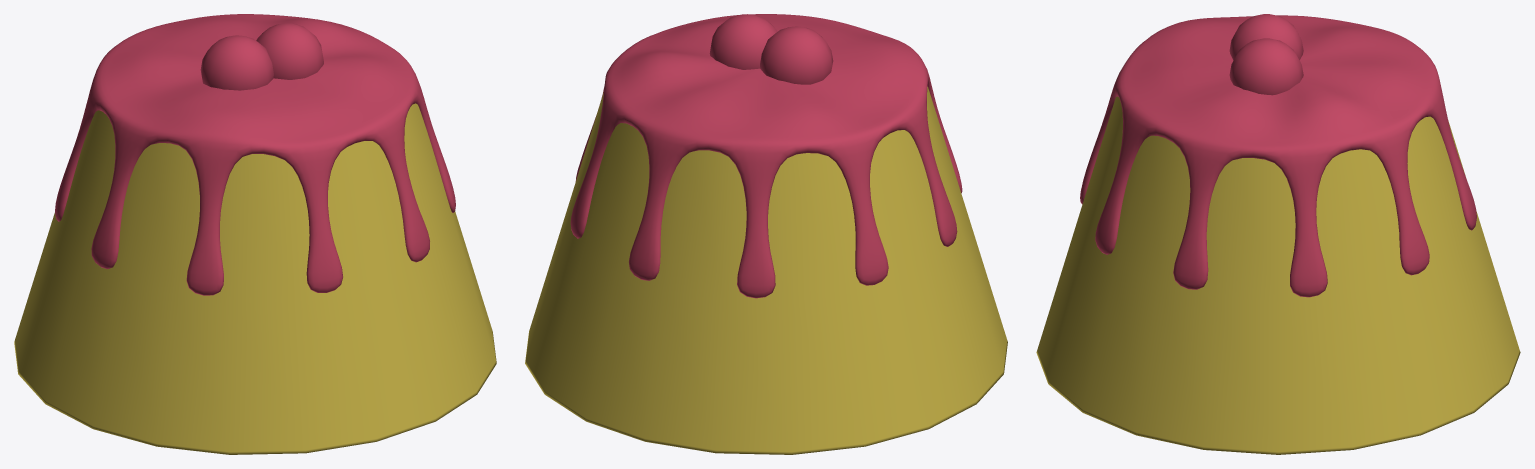
File: Pudding01.fbx
3 renders of one model, left to right at view 1: azimuth 30°, elevation 25°; view 2: azimuth 150°, elevation 25°; view 3: azimuth 270°, elevation 25°, orthographic.
Visible parts, largest first — view 1: Pudding01; view 2: Pudding01; view 3: Pudding01.
Boxes of the visible parts, x1,y1,x2,y2 form: Pudding01: [14, 14, 496, 454]; Pudding01: [525, 14, 1007, 454]; Pudding01: [1036, 14, 1520, 454].
Bounding box in the file's own units: 406 × 300 × 406.
